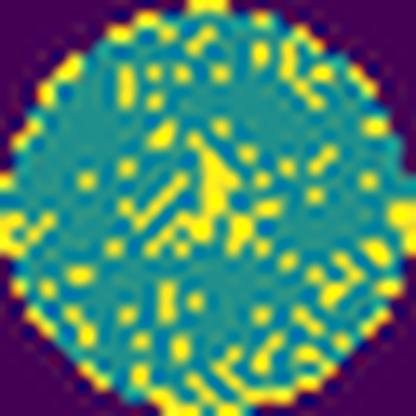Center: (145, 133, 244, 258)
